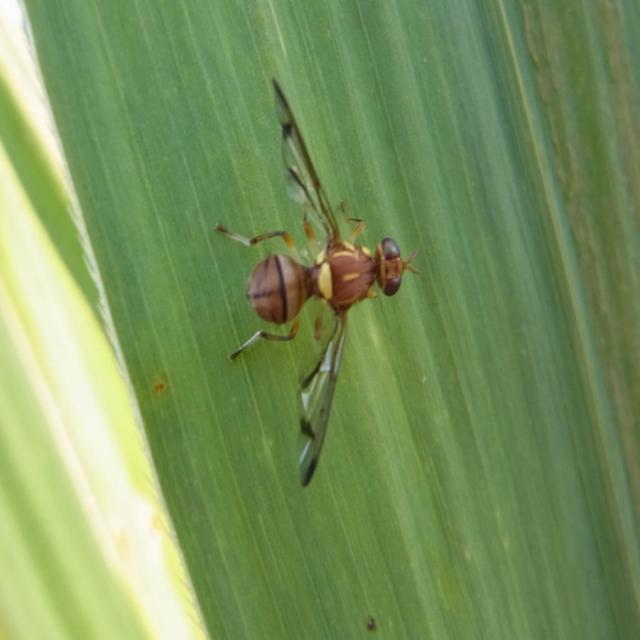Fruit fly: (210, 49, 432, 501)
